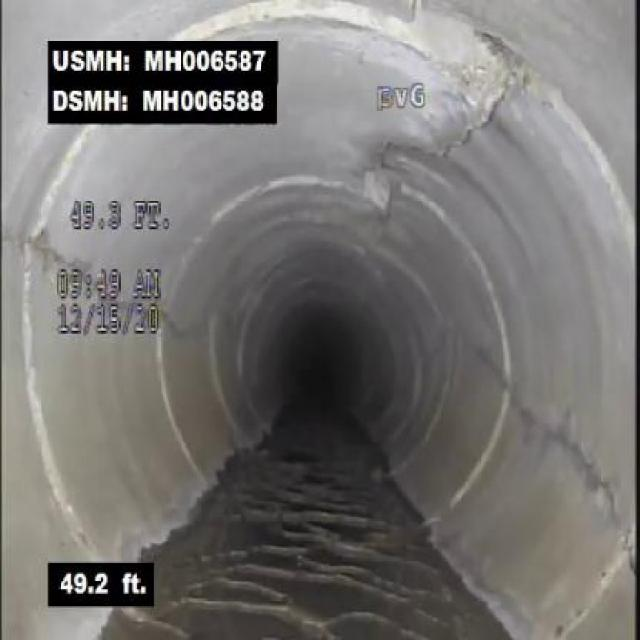Buckling: (380, 11, 571, 180)
